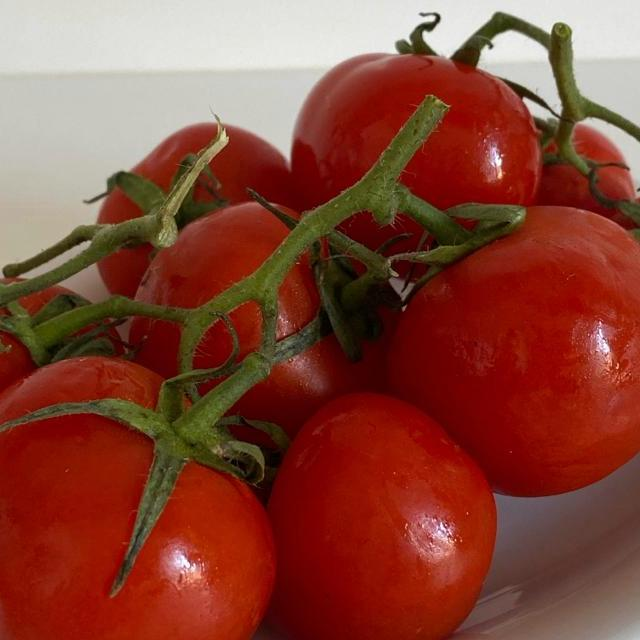tomato: (322, 155, 640, 512), (0, 327, 287, 640)
